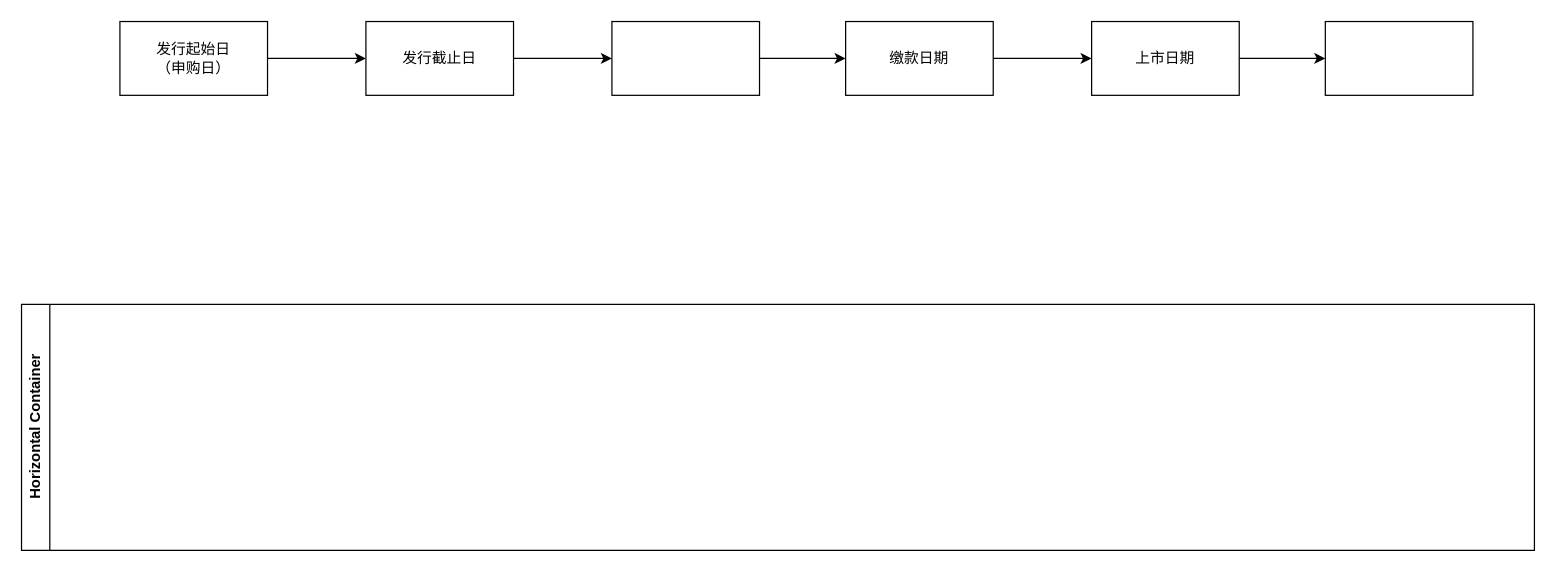
Image size: 1556x572. Some labels were removed from this diagram. Each missing label, with the centre of its shape:
到期日期: [1398,57]
截标时间: [685,57]
